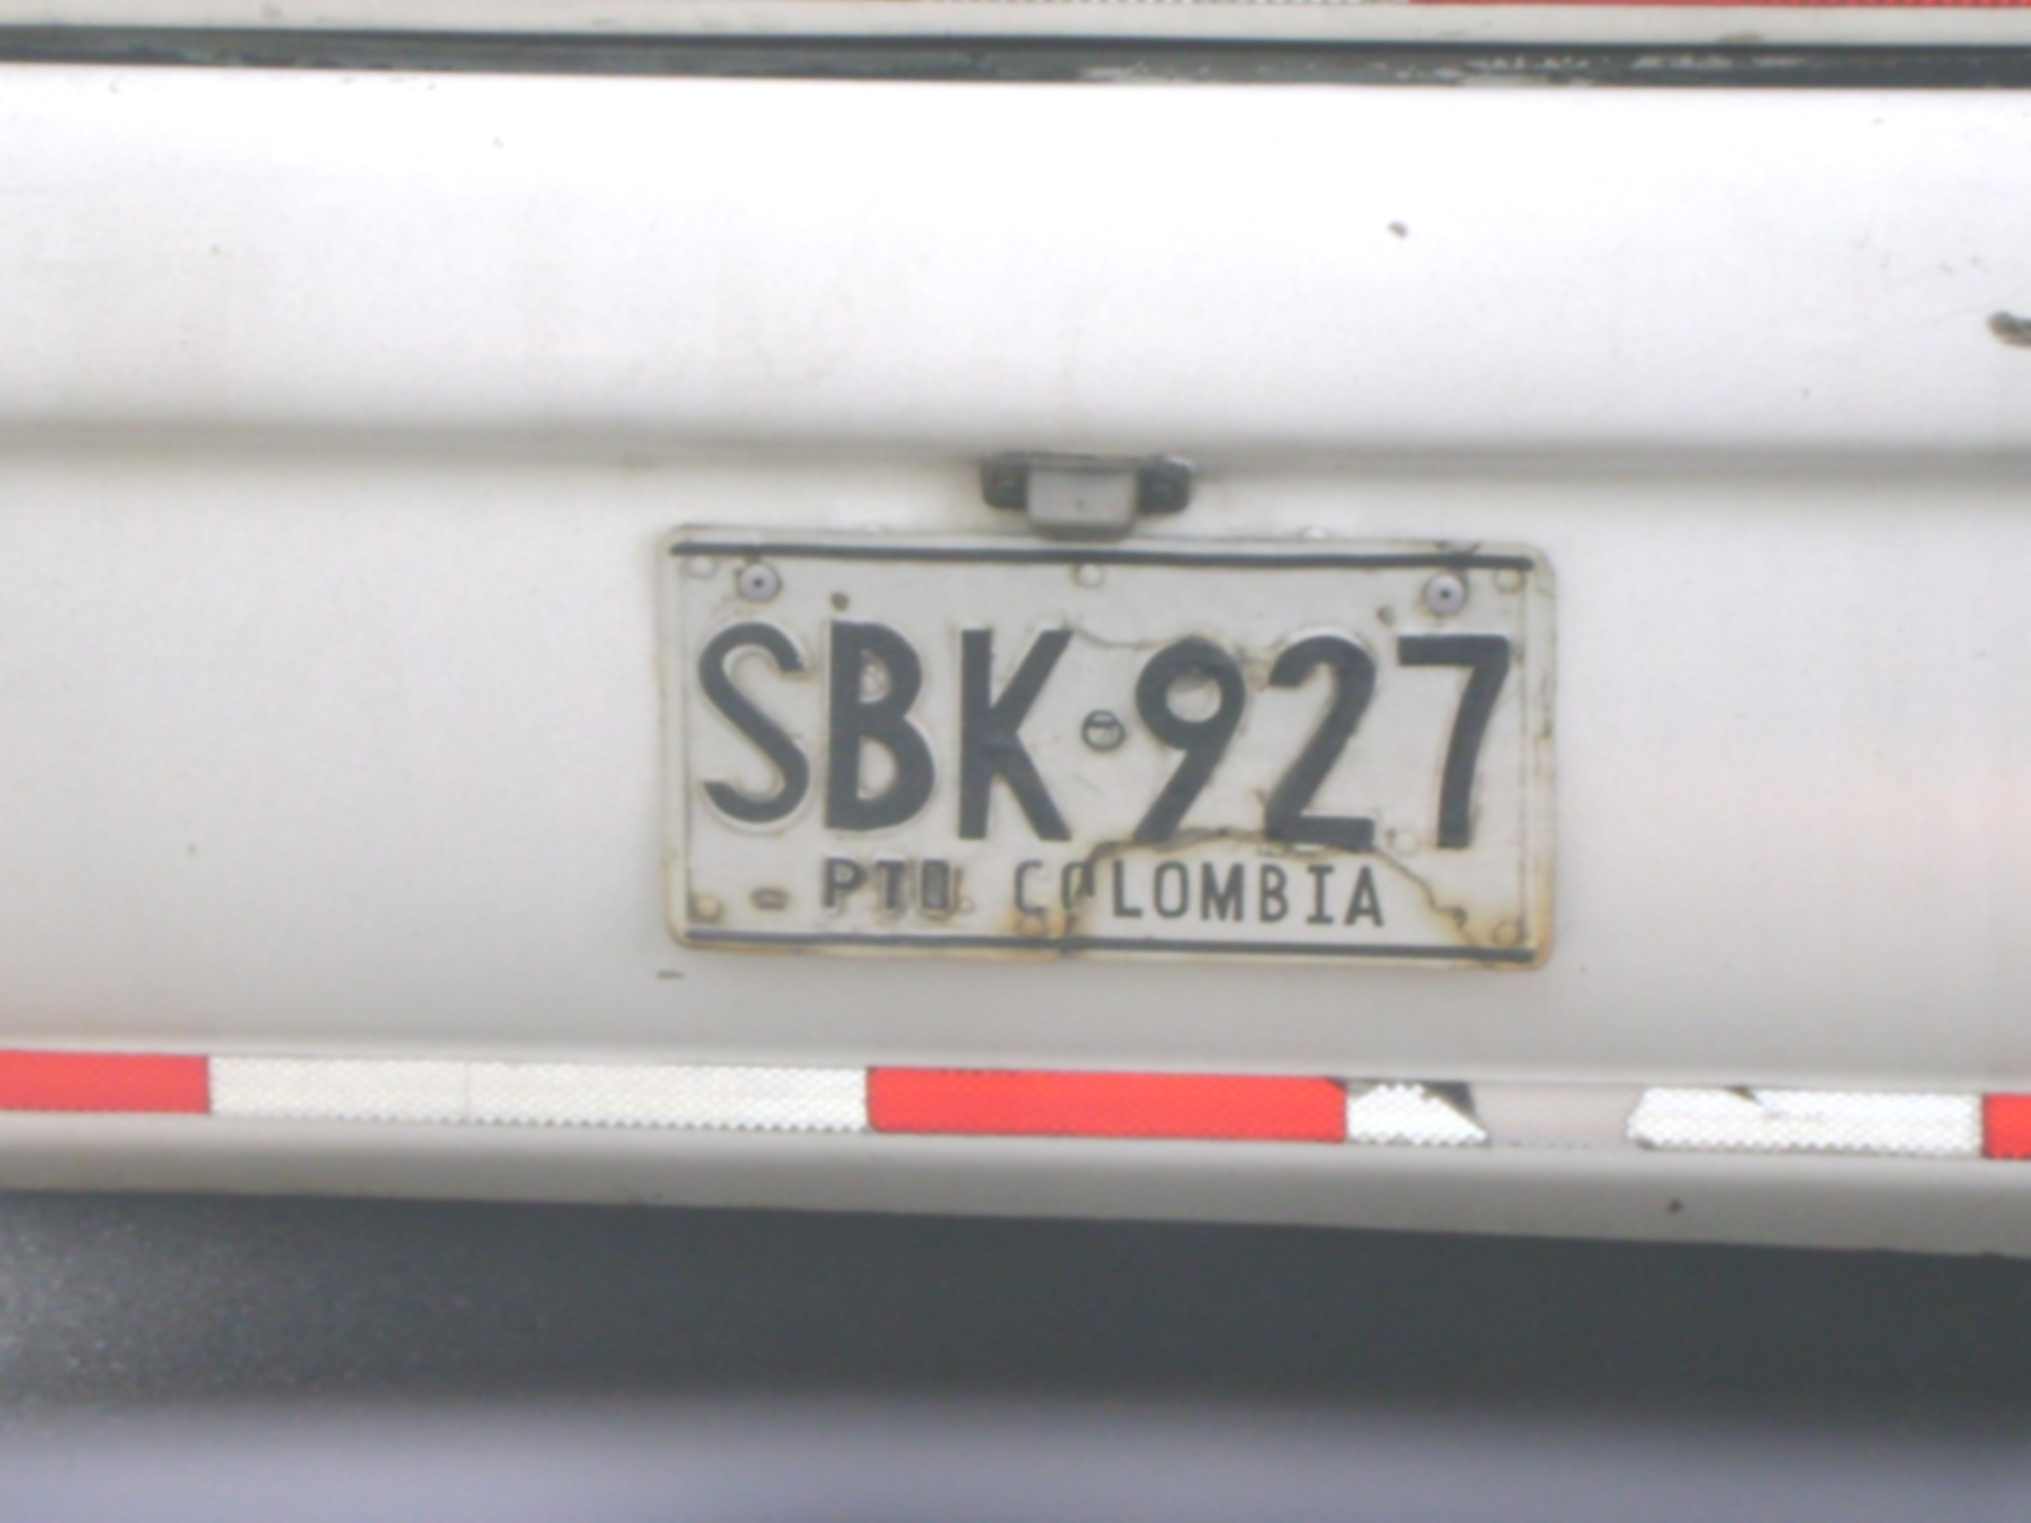placas: (643, 500, 1586, 990)
